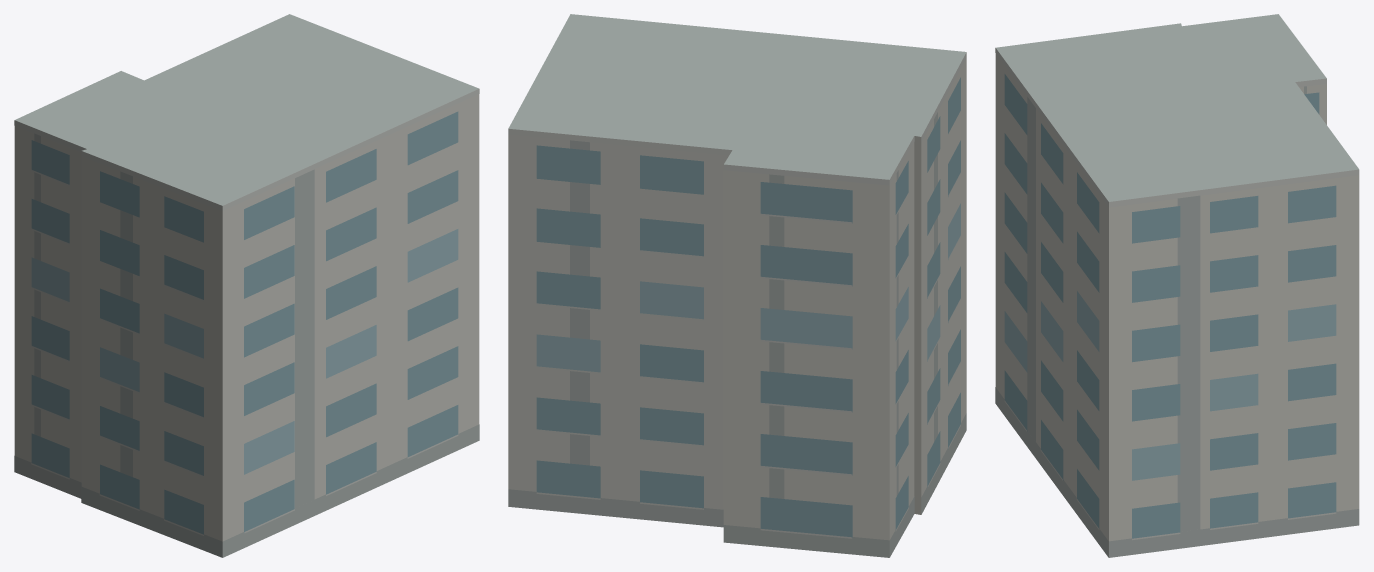
The model's file is survey-upis-32592347.glb.
3 renders of one model, left to right at view 1: azimuth 30°, elevation 25°; view 2: azimuth 150°, elevation 25°; view 3: azimuth 270°, elevation 25°, orthographic. The views are drawn at different scales.
Parts seen in each view (by area): view 1: survey-upis-32592347.tmp; view 2: survey-upis-32592347.tmp; view 3: survey-upis-32592347.tmp.
Boxes of the visible parts, <box> form: survey-upis-32592347.tmp: <box>14,14,479,557</box>; survey-upis-32592347.tmp: <box>508,14,966,557</box>; survey-upis-32592347.tmp: <box>995,14,1359,557</box>.
Bounding box in the file's own units: 18.12 × 15.99 × 14.83.
